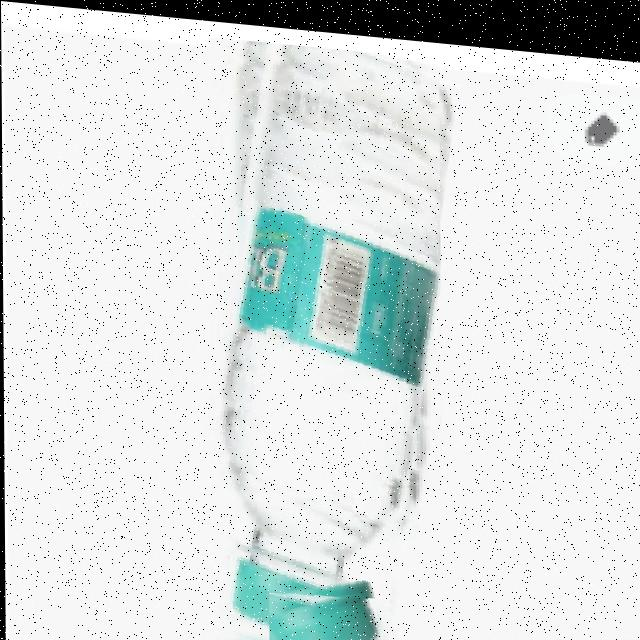litter: (194, 31, 441, 640), (267, 582, 384, 640)
